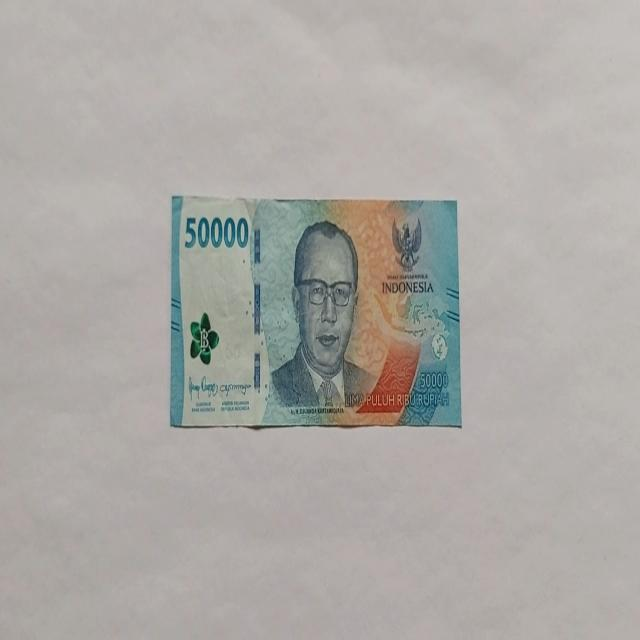lima puluh ribu rupiah: (169, 192, 461, 430), (264, 218, 381, 420)
